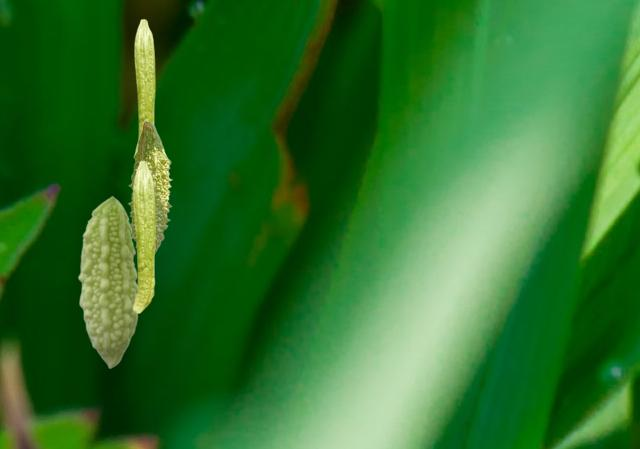ampalaya: (77, 195, 138, 369), (127, 120, 173, 253), (132, 160, 156, 314), (134, 18, 155, 153)
